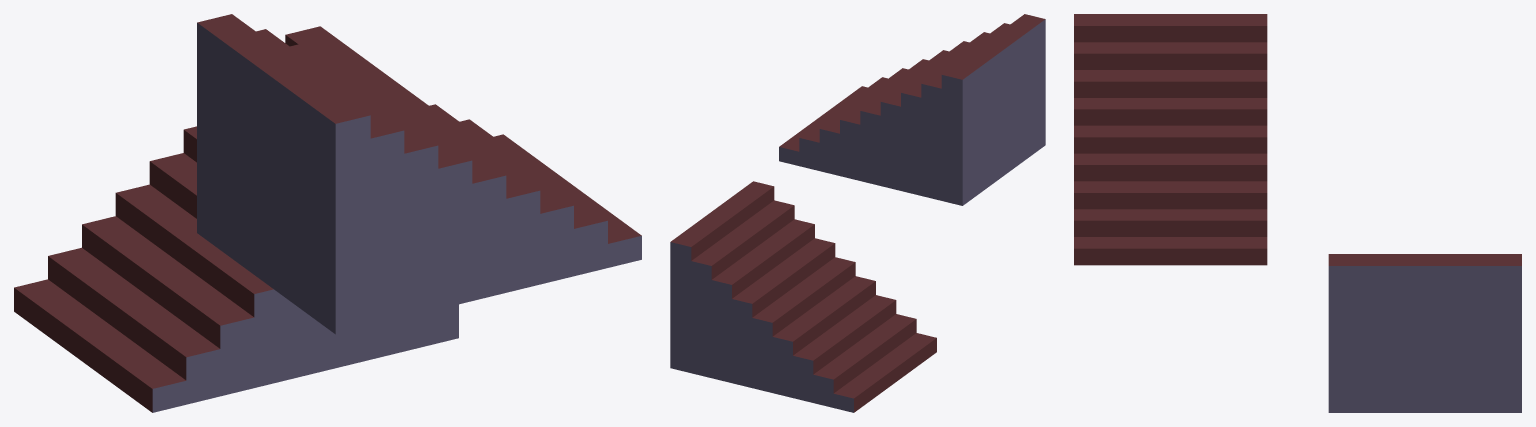
The model's file is middle stairs.fbx.
3 renders of one model, left to right at view 1: azimuth 30°, elevation 25°; view 2: azimuth 150°, elevation 25°; view 3: azimuth 270°, elevation 25°, orthographic. The views are drawn at different scales.
Parts seen in each view (by area): view 1: middle stairs; view 2: middle stairs; view 3: middle stairs.
Boxes of the visible parts, x1,y1,x2,y2 form: middle stairs: [14, 14, 641, 412]; middle stairs: [670, 14, 1045, 412]; middle stairs: [1074, 14, 1521, 412].
Bounding box in the file's own units: 198 × 260 × 358.
1 material, 1 textured.
